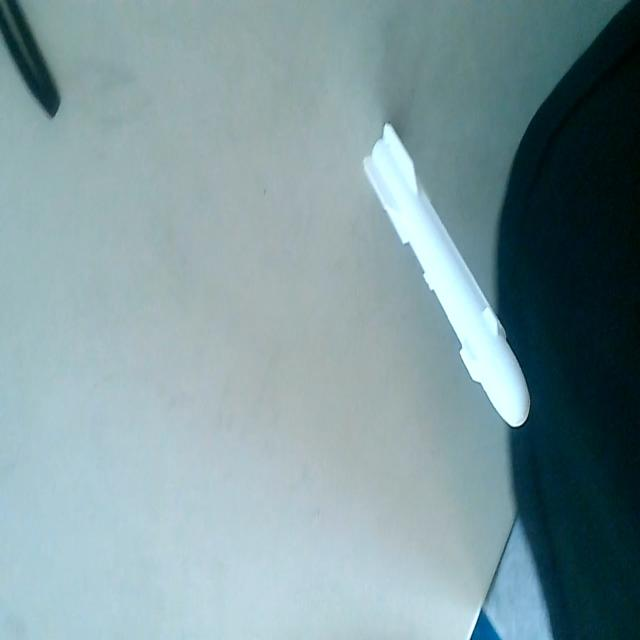Rocket: (362, 117, 532, 433)
